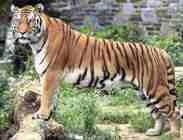tigre: (10, 4, 180, 136)
